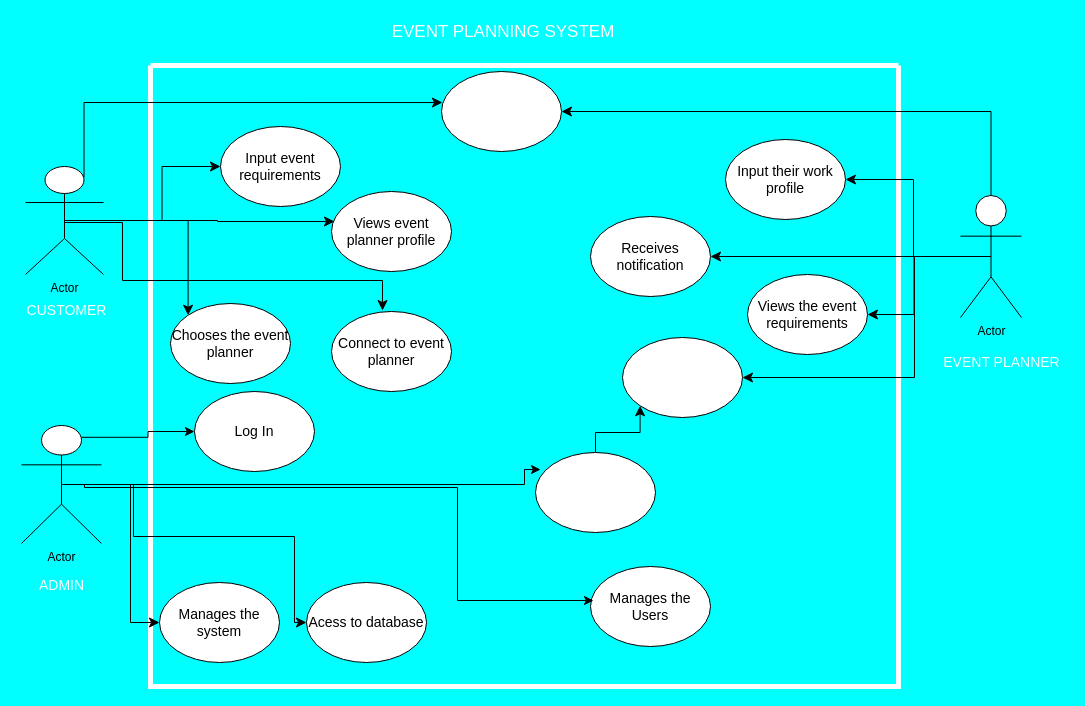
The diagram is 1085 pixels wide and 706 high, and some of its shapes have lost their labels. The centre of each missing label's shape, as x and y in pixels:
"Connect to the customer" goes at point (682, 377).
"Log In/ Register" goes at point (501, 111).
"Sends notification to the event planner" goes at point (595, 492).
